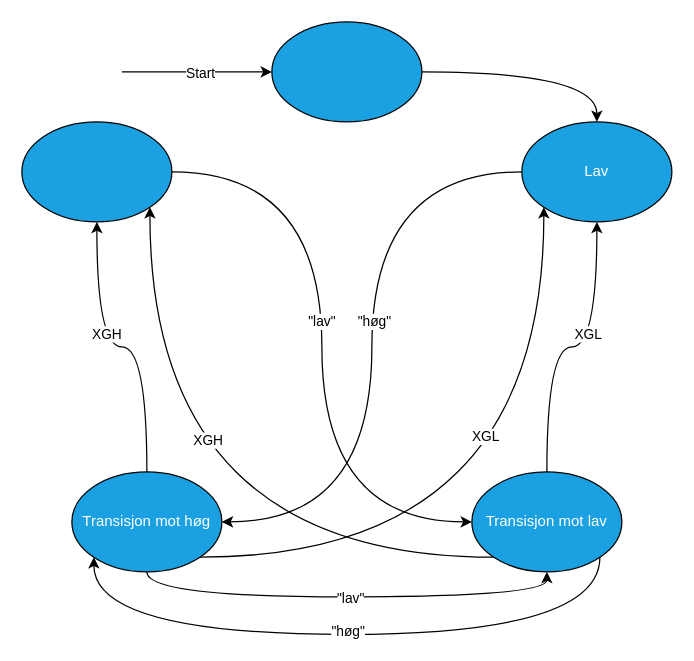
Image size: 694x661. Some labels were removed from this diagram. Each missing label, with the centre of its shape:
Høg: (96,171)
Initial: (346,71)
